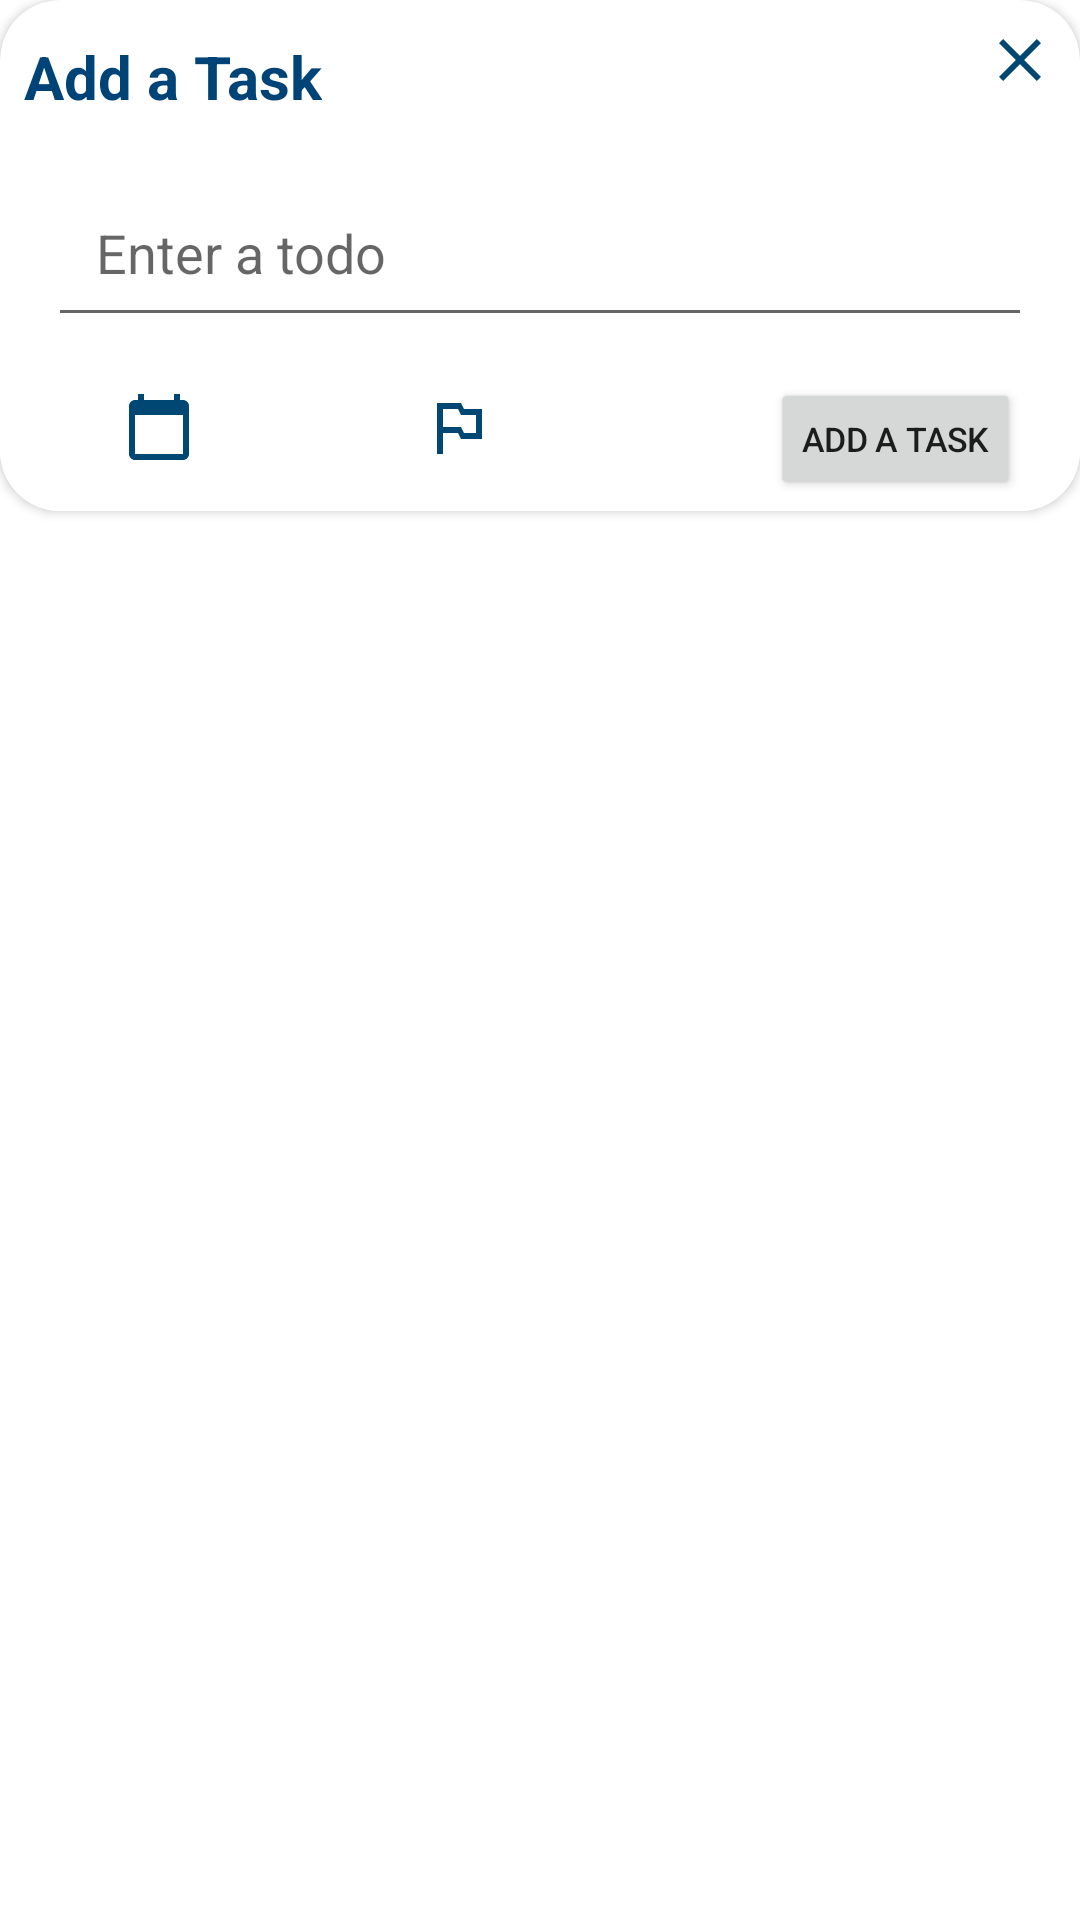

Point at icon controls on the screen. Image size 1080 × 1920, points as (x,y).
calendar today: (159,427)
Close button: (1020,60)
flag: (459,428)
